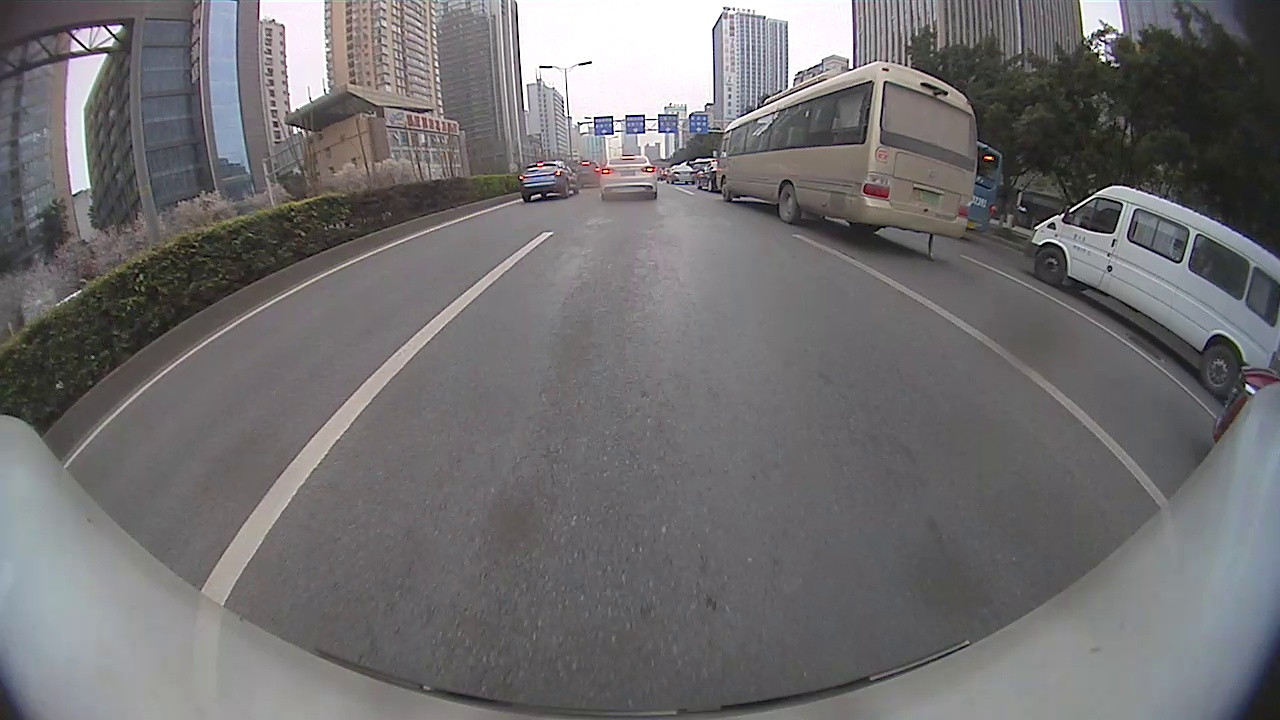bus: (714, 60, 978, 239), (966, 145, 1003, 226)
car: (1027, 184, 1279, 393), (1212, 365, 1279, 443), (597, 155, 657, 202), (518, 160, 579, 202)
front: (1034, 246, 1068, 285), (720, 178, 733, 203)
rear: (1199, 345, 1239, 395), (776, 183, 801, 223)
